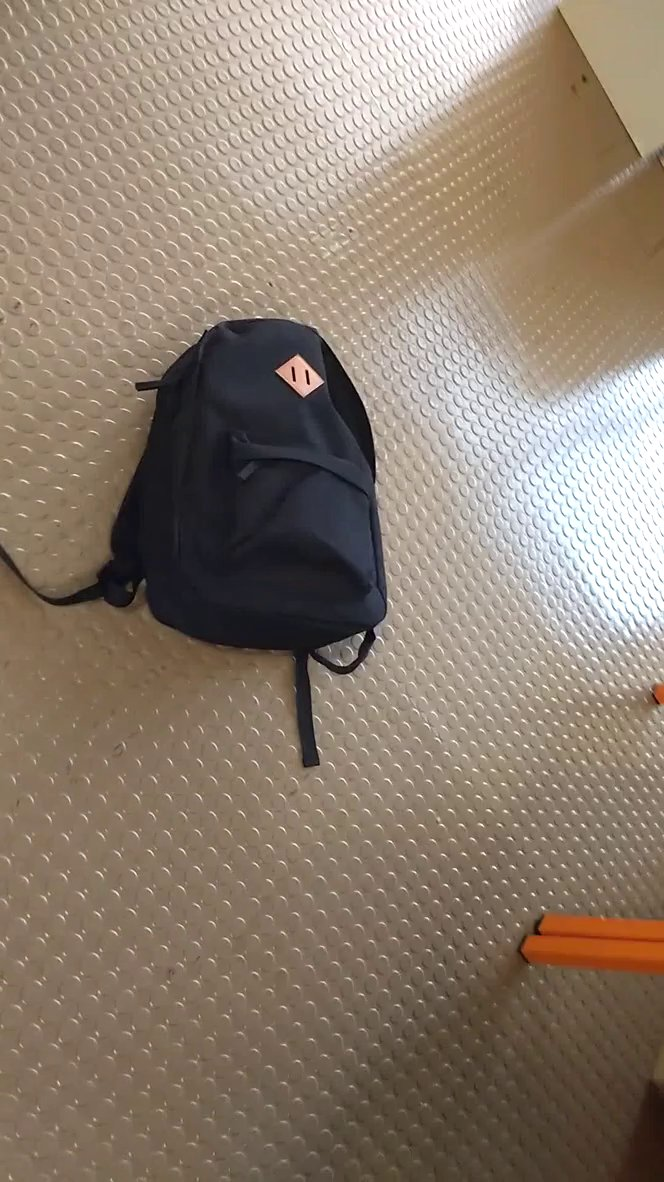bag: (1, 281, 408, 787)
